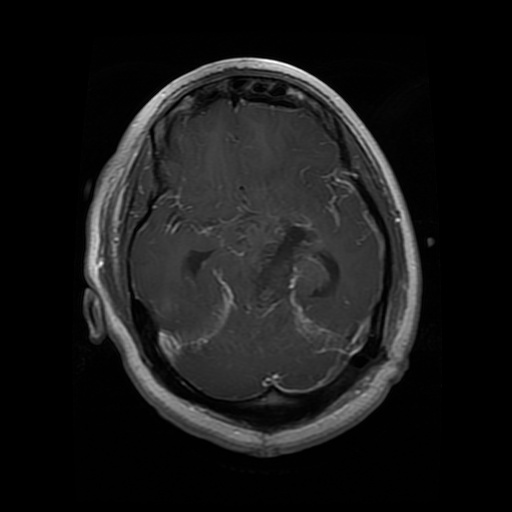glioma: (249, 221, 341, 314)
